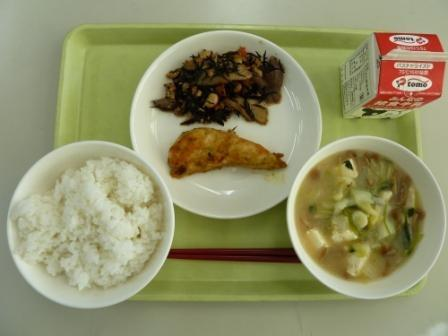Meat: (165, 124, 288, 196)
Milk: (340, 26, 442, 127)
Rice: (8, 151, 166, 298)
Soups: (295, 144, 444, 288)
salad with sauce: (162, 43, 276, 123)
